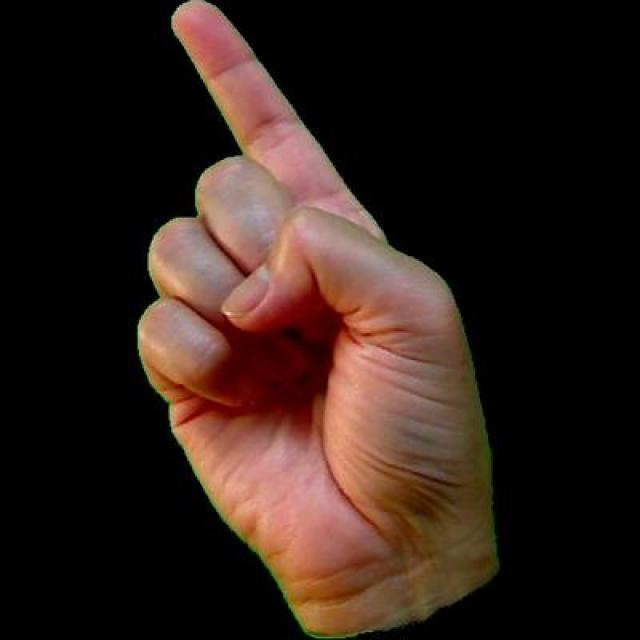z: (125, 0, 510, 637)
